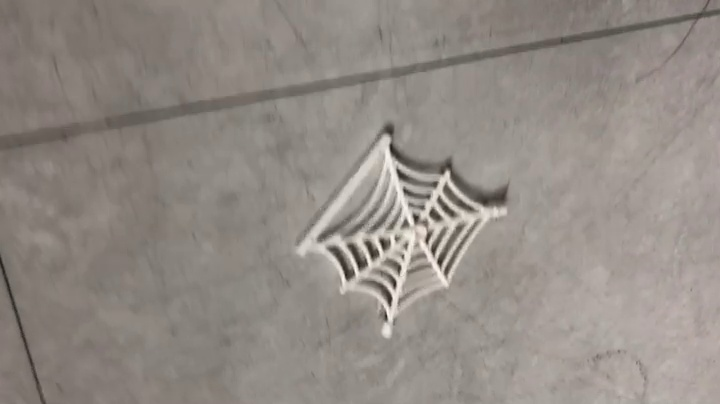web: (294, 123, 511, 341)
